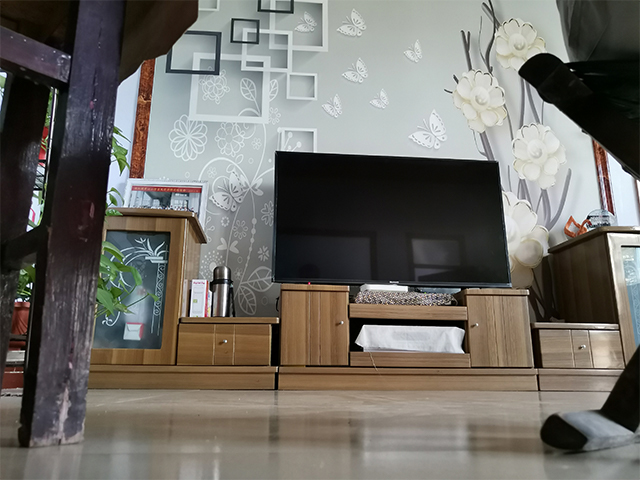cabinet: (87, 207, 640, 392)
